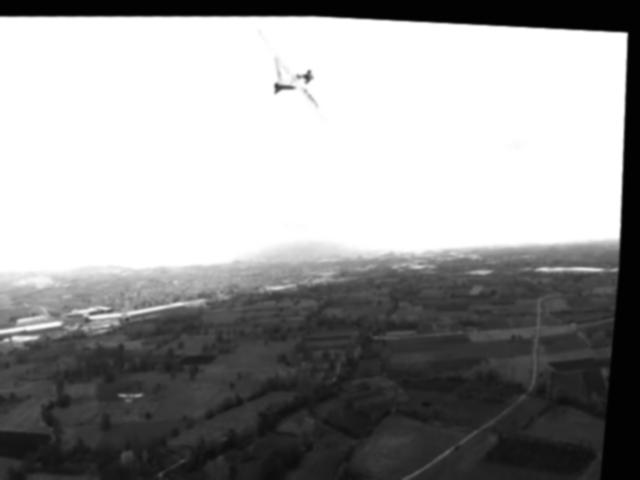hedef: (245, 15, 346, 140)
